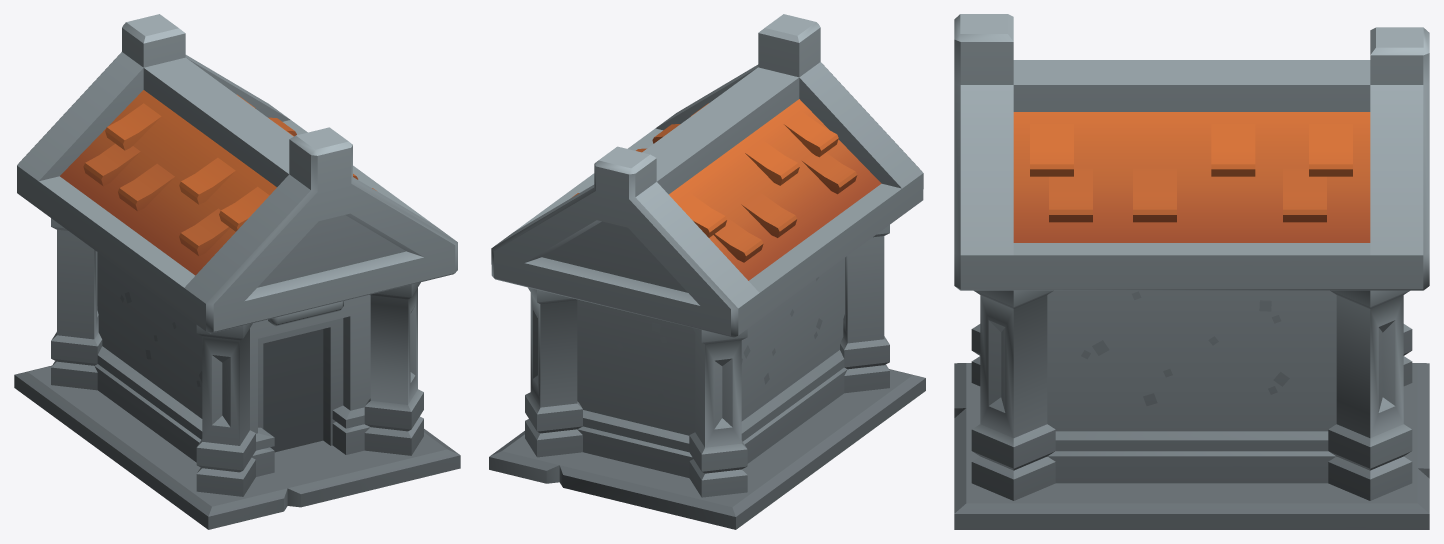
File: kk_crypt.glb
3 renders of one model, left to right at view 1: azimuth 30°, elevation 25°; view 2: azimuth 150°, elevation 25°; view 3: azimuth 270°, elevation 25°, orthographic. The views are drawn at different scales.
Parts seen in each view (by area): view 1: crypt; view 2: crypt; view 3: crypt.
Boxes of the visible parts, x1,y1,x2,y2 form: crypt: (14, 14, 460, 529); crypt: (489, 14, 925, 529); crypt: (954, 14, 1429, 529).
Bounding box in the file's own units: 6 × 8 × 8.
1 material, 1 textured.
